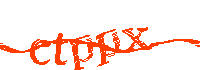c: (28, 36, 52, 67)
p: (96, 29, 121, 70), (69, 35, 95, 70)
t: (52, 31, 68, 70)
x: (121, 27, 151, 51)
